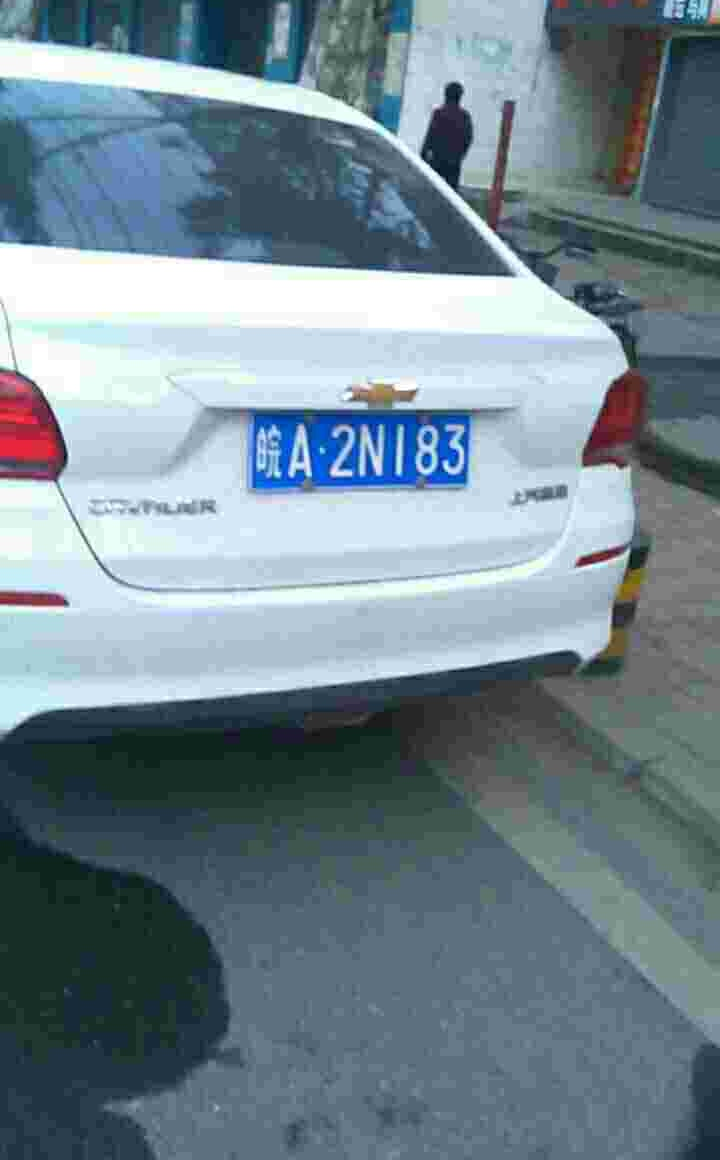plate: (254, 406, 481, 494)
